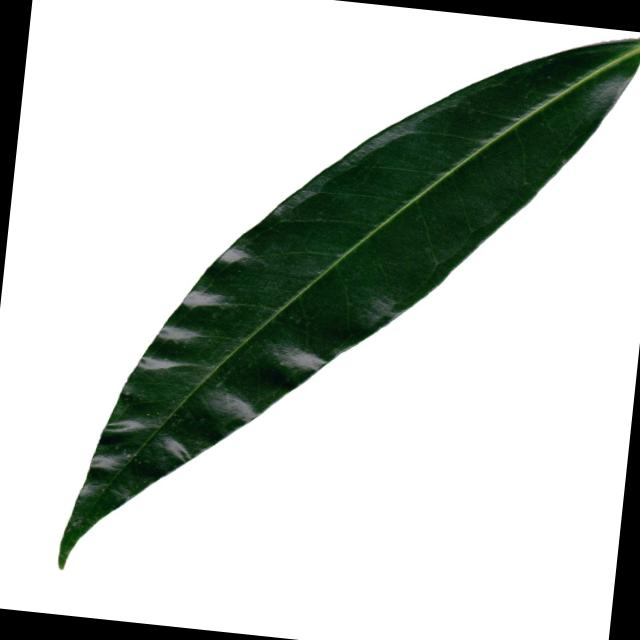Medicinal-Rose Apple: (56, 0, 640, 627)
